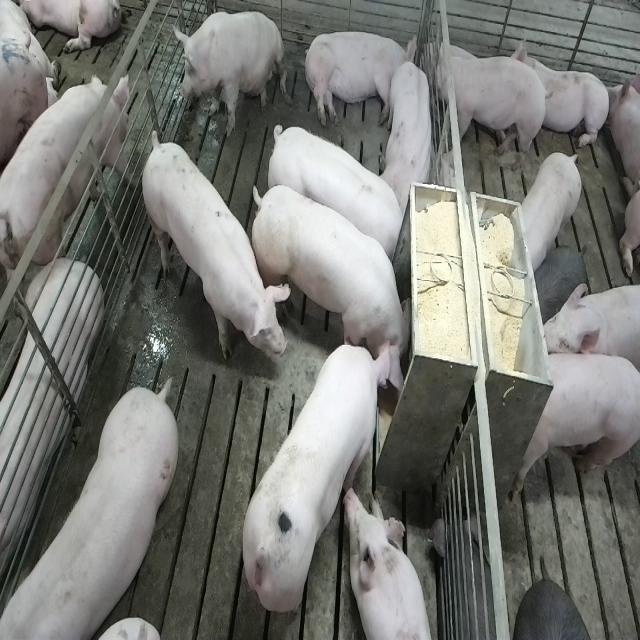Feeding: (240, 336, 396, 618), (253, 178, 420, 386)
Lateral_lying: (0, 258, 101, 592), (302, 28, 419, 129)
Sitting: (172, 8, 285, 137)
Standing: (0, 380, 176, 640), (137, 130, 285, 382), (0, 72, 130, 276), (268, 119, 407, 263), (513, 351, 639, 502), (423, 47, 549, 176), (540, 278, 640, 384), (515, 150, 584, 274), (534, 243, 590, 325)
Sternal_lying: (346, 487, 434, 640), (516, 37, 611, 155), (379, 52, 436, 210)
